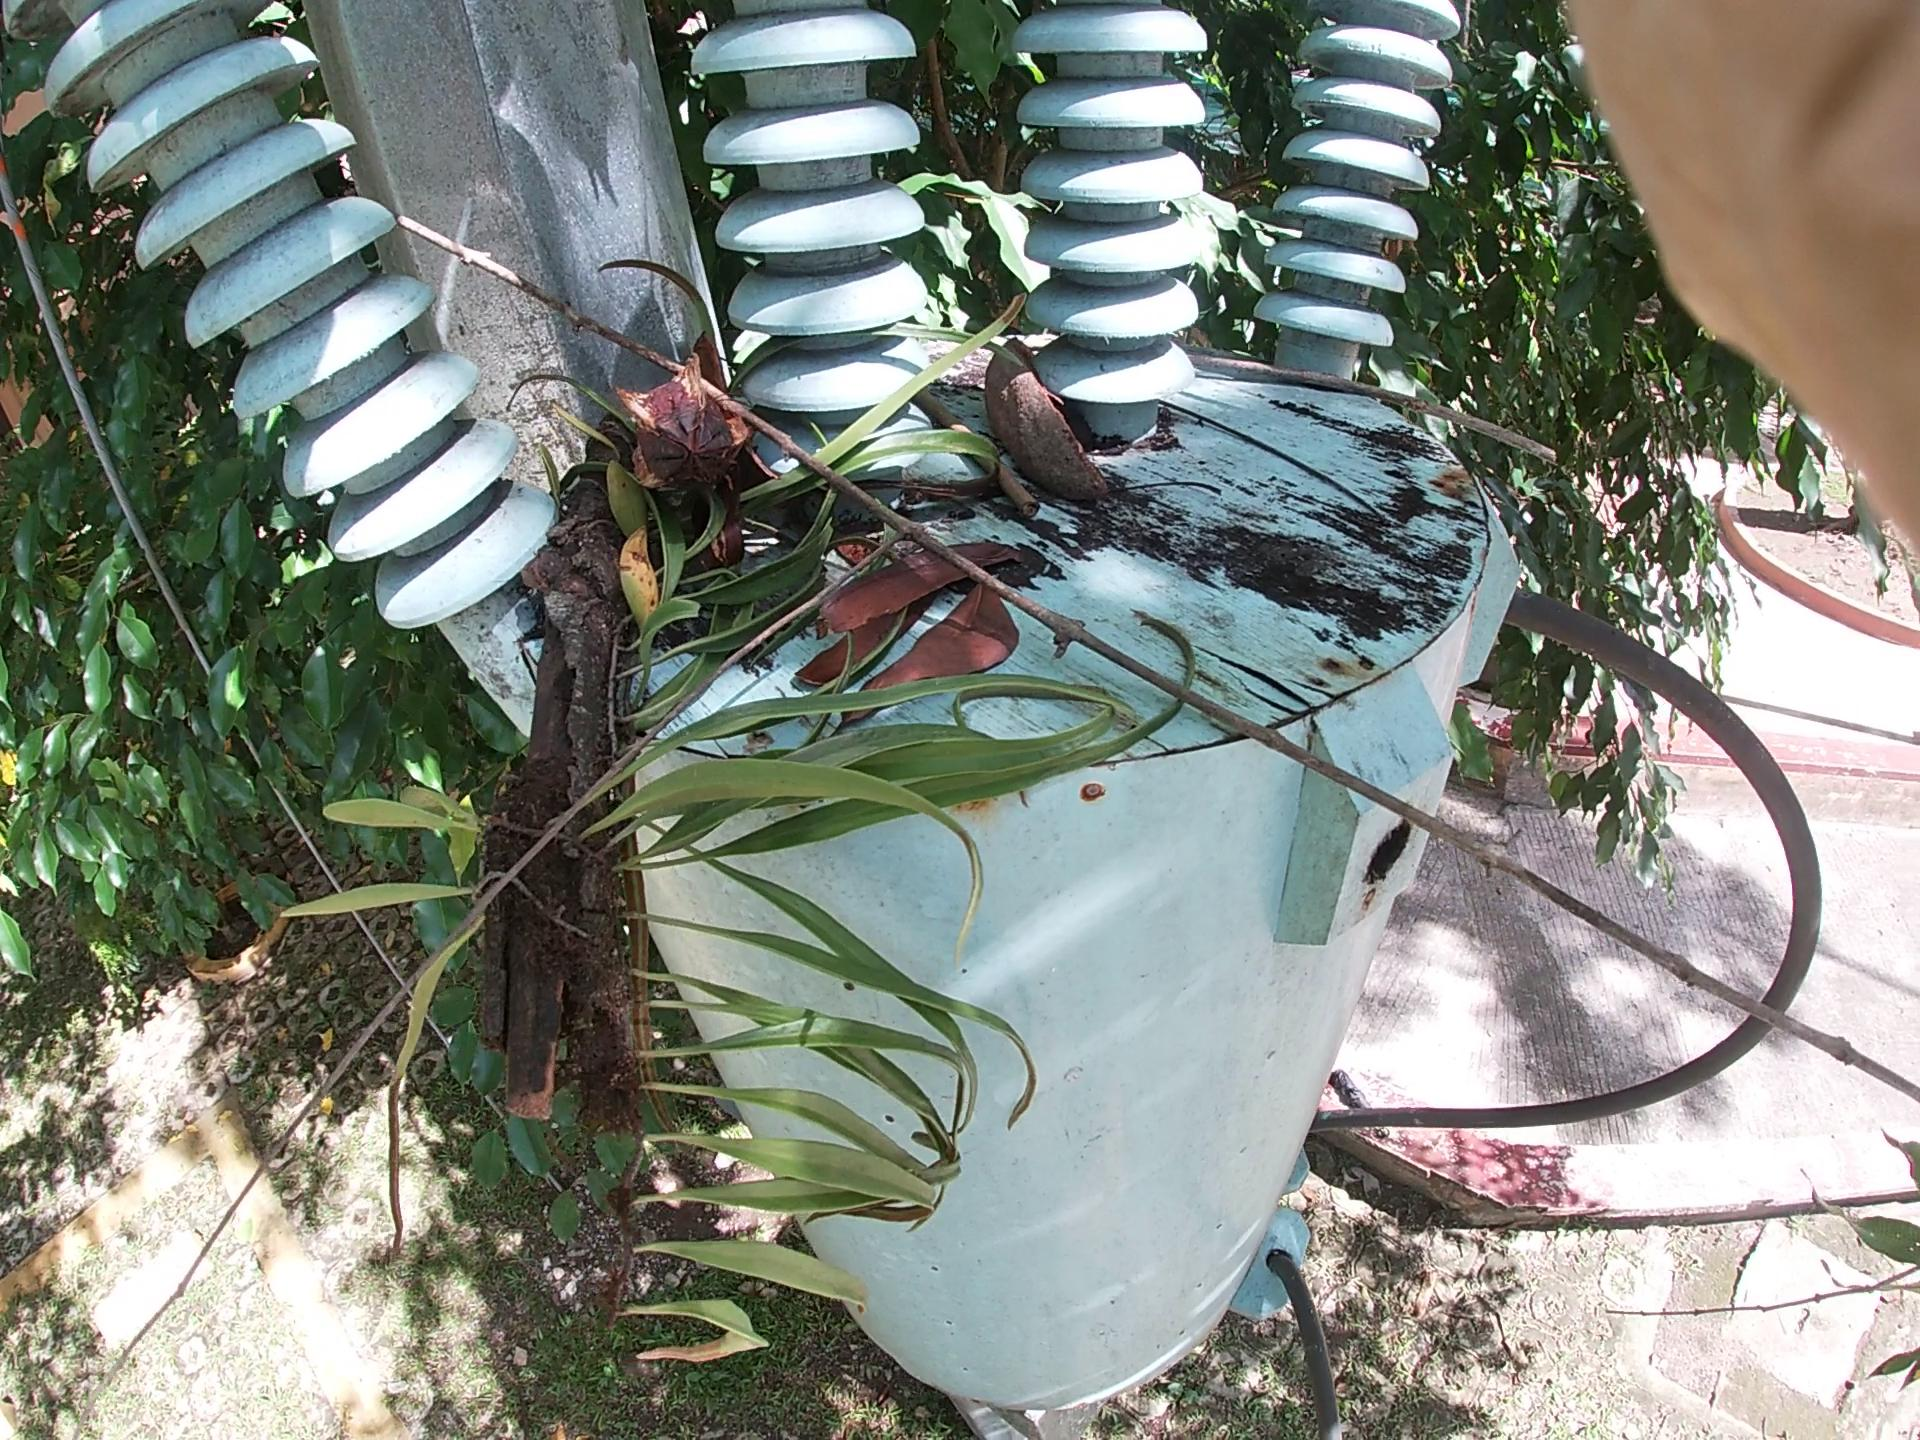branch with leaves: (438, 222, 971, 1340)
leaf: (748, 523, 1037, 690)
mahogany fruit: (958, 295, 1184, 532), (609, 324, 792, 510)
tree branch: (443, 225, 1451, 895), (881, 303, 1119, 656), (1243, 333, 1603, 445)
